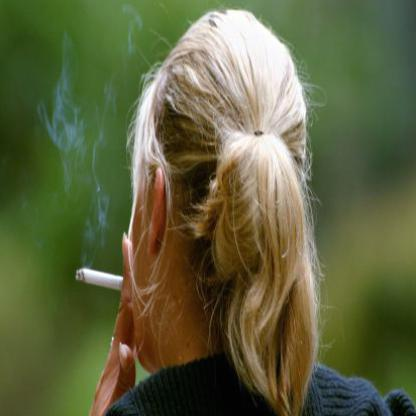cigarette: (75, 266, 124, 296)
person: (119, 2, 324, 415)
smoke: (40, 78, 86, 153), (90, 120, 110, 238)
